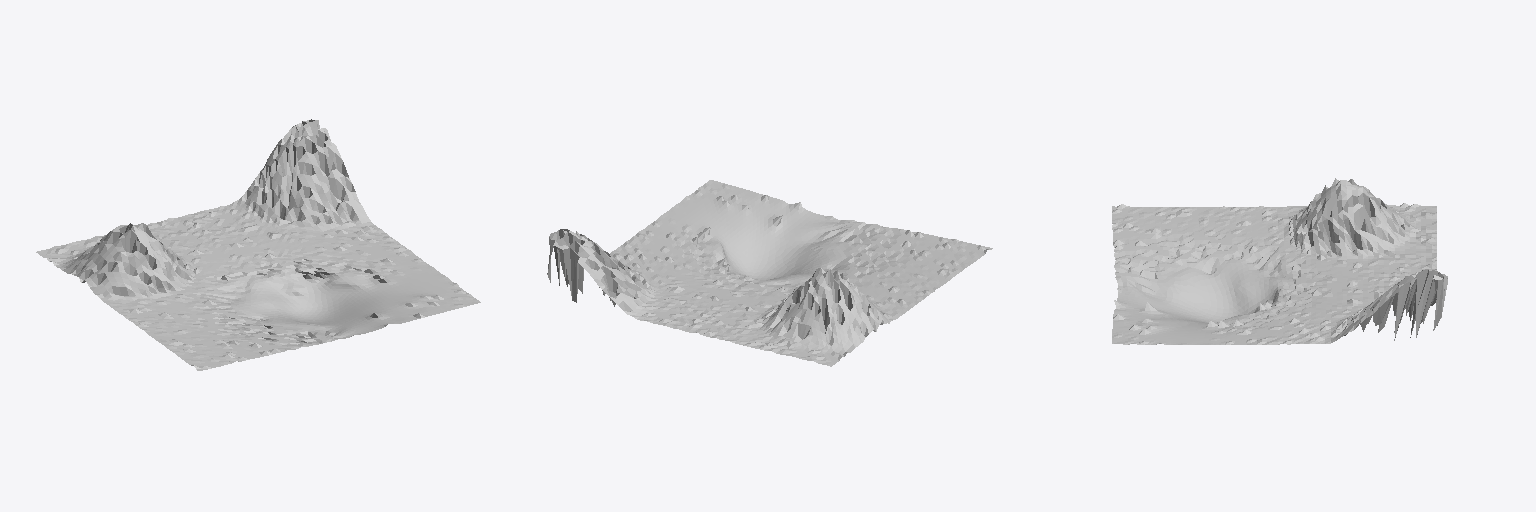
File: csgterrain.obj
The picture shows the model from 3 angles: view 1: azimuth 30°, elevation 25°; view 2: azimuth 150°, elevation 25°; view 3: azimuth 270°, elevation 25°; orthographic projection.
Parts seen in each view (by area): view 1: Plane; view 2: Plane; view 3: Plane.
Boxes of the visible parts, box(x1,y1,x2,y2) form: Plane: box(36, 119, 480, 370); Plane: box(547, 180, 992, 366); Plane: box(1112, 178, 1447, 344).
Size of the model in its own units: 101 by 32.66 by 103.